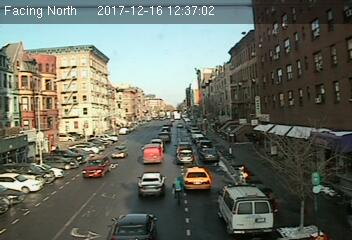bicycle: (171, 177, 185, 208)
car: (135, 173, 168, 198), (183, 167, 212, 189), (83, 155, 109, 177), (199, 148, 220, 161), (111, 145, 127, 159), (177, 151, 194, 163)
police: (218, 182, 276, 236)
truck: (142, 145, 164, 165)
